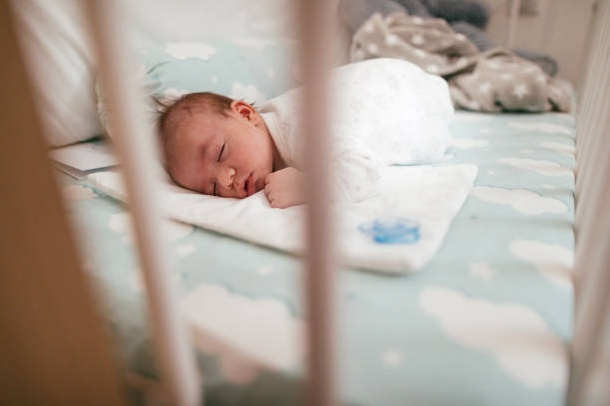baby: (158, 88, 304, 207)
crib: (87, 0, 609, 404)
